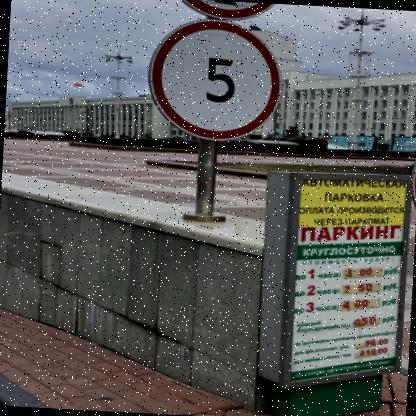speedlimit: (142, 13, 282, 142)
